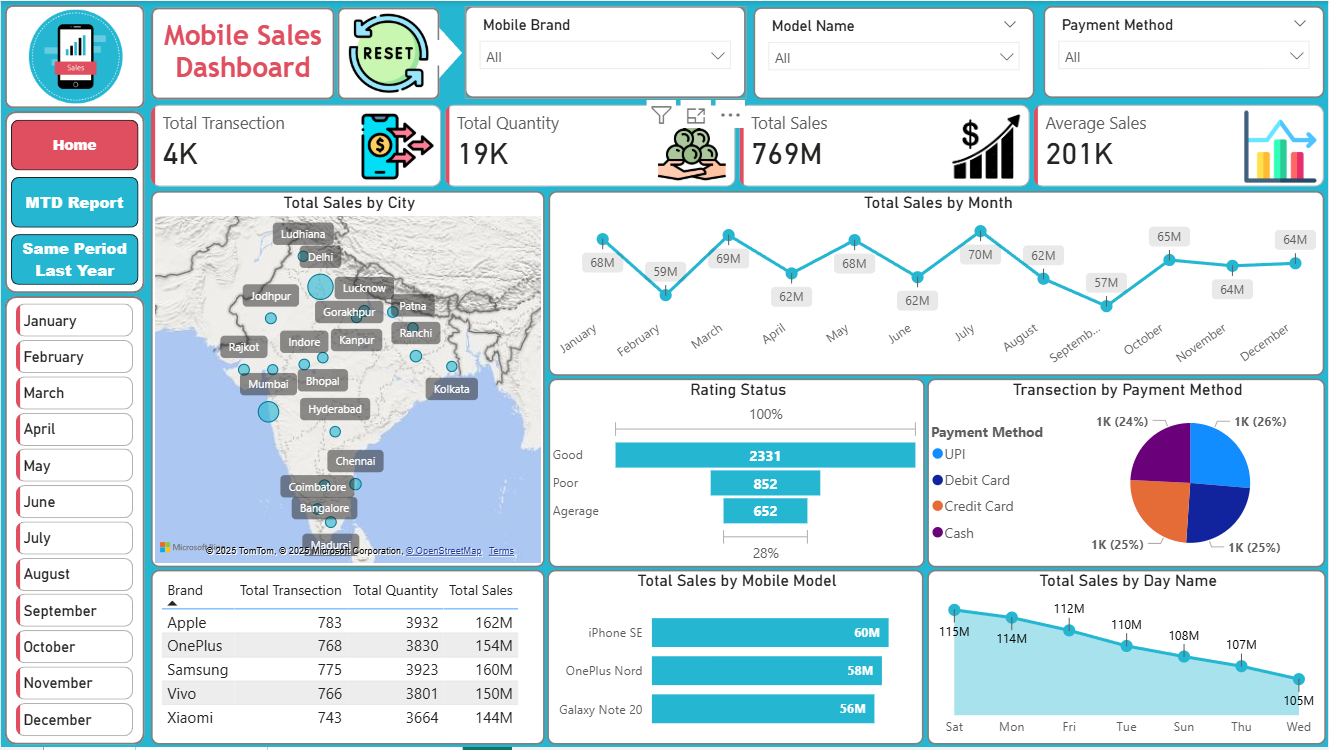

The page's visual inventory and layout, read from the dashboard file:
{"tool":"powerbi","page":{"name":"Home","canvas":[1280,720],"ordinal":0},"visuals":[{"type":"shape","box":[3.6,3.6,135.1,100.1],"z":0},{"type":"image","box":[20.5,3.6,102.5,100.1],"z":1000},{"type":"shape","box":[3.6,106.2,135.1,176],"z":2000},{"type":"shape","box":[3.6,284.7,135.1,433.1],"z":3000},{"type":"advancedSlicerVisual","fields":{"Values":["Custom Calender.Date.Variation.Date Hierarchy.Month"]},"box":[9.7,286.9,123.1,433.1],"z":4000},{"type":"cardVisual","fields":{"Data":["_Measures.Total Transection","_Measures.Total Quantity","_Measures.Total Sales","_Measures.Avg Sales"]},"box":[144.8,95.3,1135,89.3],"z":5000},{"type":"slicer","fields":{"Values":["Sales Data.Brand"]},"box":[447.6,4.8,271.4,89],"z":6000},{"type":"slicer","fields":{"Values":["Sales Data.Mobile Model"]},"box":[726.3,6,271.4,89],"z":7000},{"type":"slicer","fields":{"Values":["Sales Data.Payment Method"]},"box":[1006.2,4.8,271.4,89],"z":8000},{"type":"shape","box":[324.5,6,98.9,89.3],"z":9000},{"type":"shape","box":[144.8,6,177.3,89.3],"z":10000},{"type":"textbox","box":[144.8,13.3,177.3,71.2],"z":11000},{"type":"shape","box":[400.5,25.3,44.6,49.5],"z":12000},{"type":"image","box":[326.9,7.2,94.1,86.9],"z":13000},{"type":"map","fields":{"Category":["Sales Data.City"],"Size":["_Measures.Total Sales"]},"box":[144.8,183.4,380,363.1],"z":14000},{"type":"lineChart","fields":{"Category":["Custom Calender.Date.Variation.Date Hierarchy.Month","Custom Calender.Date.Variation.Date Hierarchy.Day"],"Y":["_Measures.Total Sales"]},"box":[528.4,183.4,749.2,178.6],"z":15000},{"type":"funnel","title":"Rating Status","fields":{"Category":["Sales Data.Rating Status"],"Y":["CountNonNull(Sales Data.Customer Ratings)"]},"box":[528.4,364.3,363.1,182.2],"z":16000},{"type":"pieChart","title":"Transection by Payment Method","fields":{"Category":["Sales Data.Payment Method"],"Y":["_Measures.Total Transection"]},"box":[894,364.3,383.6,182.2],"z":17000},{"type":"clusteredBarChart","fields":{"Category":["Sales Data.Mobile Model"],"Y":["_Measures.Total Sales"]},"box":[527.2,548.9,363.1,169],"z":18000},{"type":"areaChart","fields":{"Category":["Custom Calender.Day Name"],"Y":["_Measures.Total Sales"]},"box":[894,548.9,384.9,169],"z":19000},{"type":"tableEx","fields":{"Values":["Sales Data.Brand","_Measures.Total Transection","_Measures.Total Quantity","_Measures.Total Sales"]},"box":[144.8,548.9,380,169],"z":20000},{"type":"pageNavigator","box":[9.7,114.6,123.1,159.3],"z":21000}]}

Visuals, with their boxes in screenshot pixels (x1, y1, x2, y2), scaled from the page's 1280x720 canvas onto the 1329x750 screenshot:
shape: [4,4,144,108]
image: [21,4,128,108]
shape: [4,111,144,294]
shape: [4,297,144,748]
advancedSlicerVisual - Custom Calender.Date.Variation.Date Hierarchy.Month: [10,299,138,749]
cardVisual - _Measures.Total Transection x _Measures.Total Quantity: [150,99,1328,192]
slicer - Sales Data.Brand: [465,5,747,98]
slicer - Sales Data.Mobile Model: [754,6,1036,99]
slicer - Sales Data.Payment Method: [1045,5,1327,98]
shape: [337,6,440,99]
shape: [150,6,334,99]
textbox: [150,14,334,88]
shape: [416,26,462,78]
image: [339,8,437,98]
map - Sales Data.City x _Measures.Total Sales: [150,191,545,569]
lineChart - Custom Calender.Date.Variation.Date Hierarchy.Month x Custom Calender.Date.Variation.Date Hierarchy.Day: [549,191,1327,377]
"Rating Status" funnel: [549,379,926,569]
"Transection by Payment Method" pieChart: [928,379,1327,569]
clusteredBarChart - Sales Data.Mobile Model x _Measures.Total Sales: [547,572,924,748]
areaChart - Custom Calender.Day Name x _Measures.Total Sales: [928,572,1328,748]
tableEx - Sales Data.Brand x _Measures.Total Transection: [150,572,545,748]
pageNavigator: [10,119,138,285]
